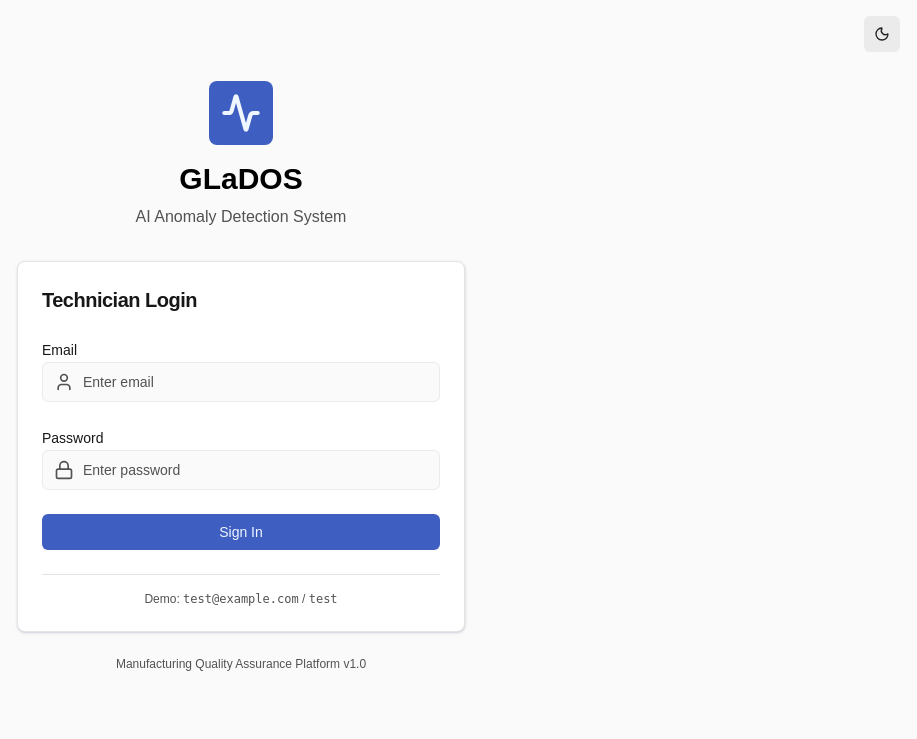
Test: LoginPage — Req 11: notify user of failed login attempts › shows an error alert when the backend is unreachable (network error)
Type "x@x.com" into the field labelled "Email" at point(241, 382), box [42, 362, 440, 402]
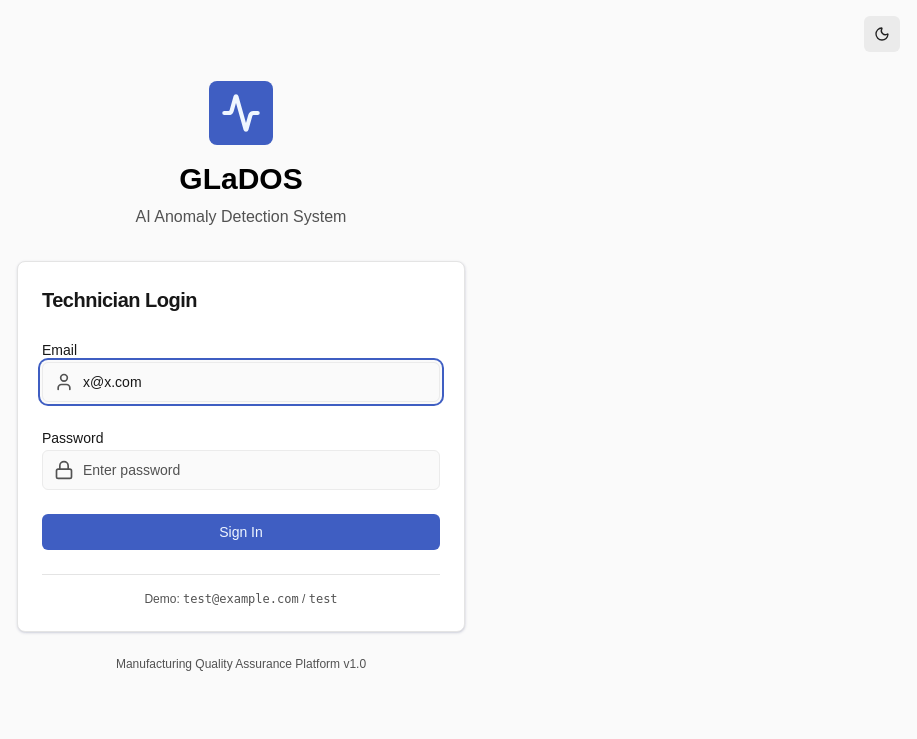
Type "pass" into the password field labelled "Password" at point(241, 470), box [42, 450, 440, 490]
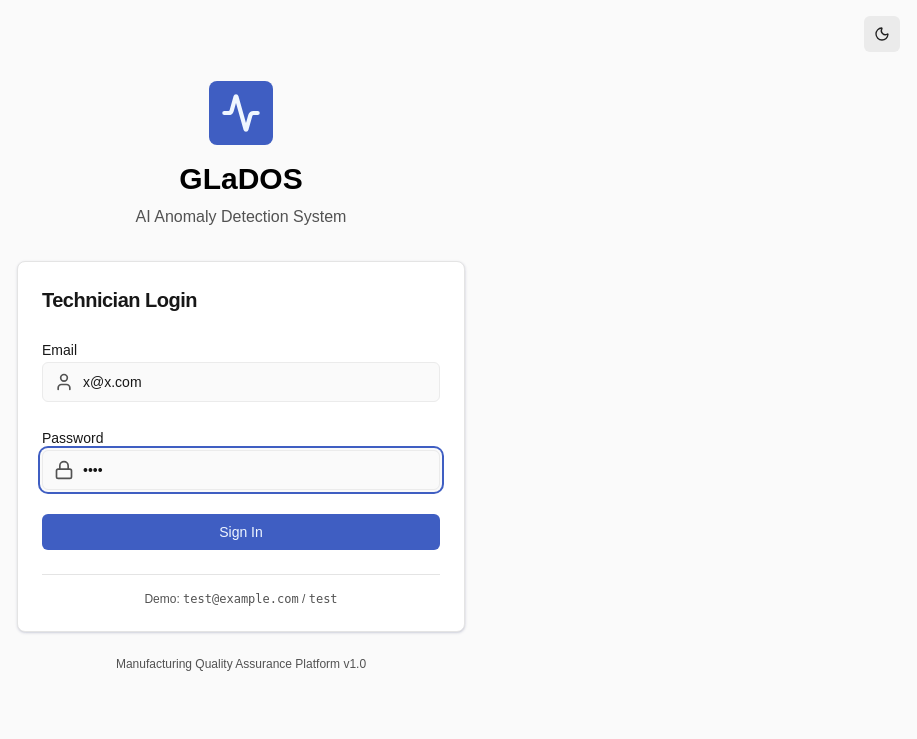
Click the button "Sign In" at point(241, 532), box [42, 514, 440, 550]
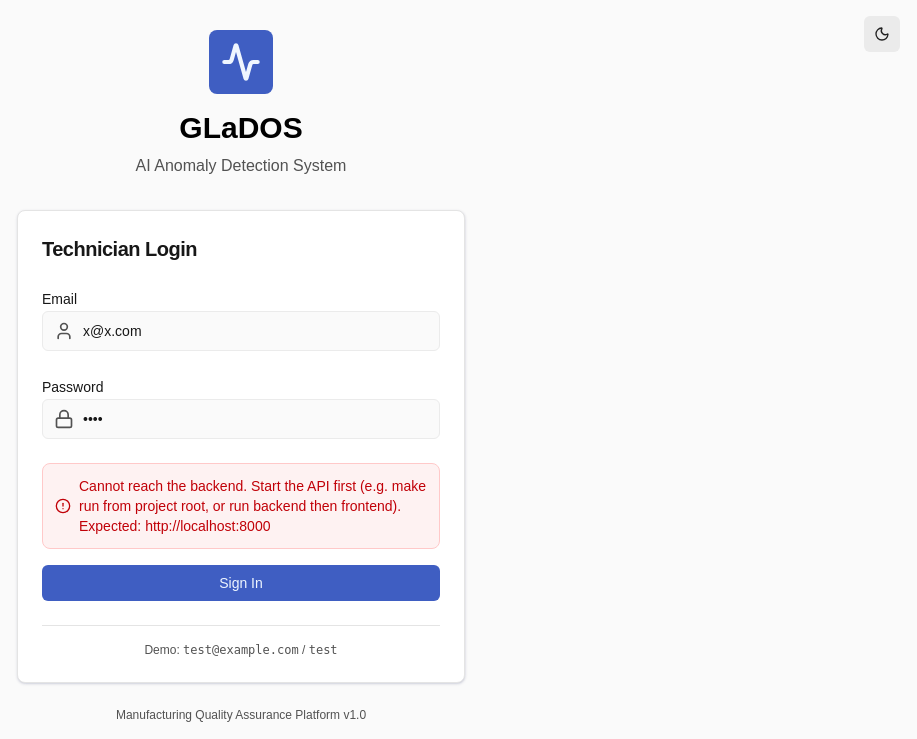
Now the message is shown, box [42, 462, 440, 548]
Now the message shows "Cannot reach the backend", box [79, 478, 426, 534]
